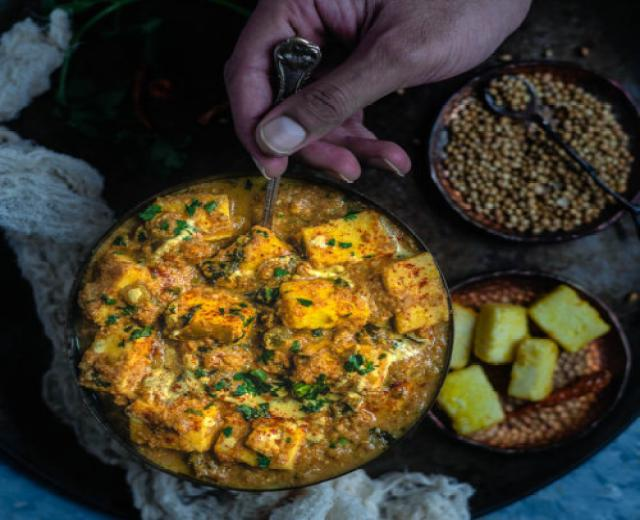kadai paneer: (78, 177, 503, 490)
